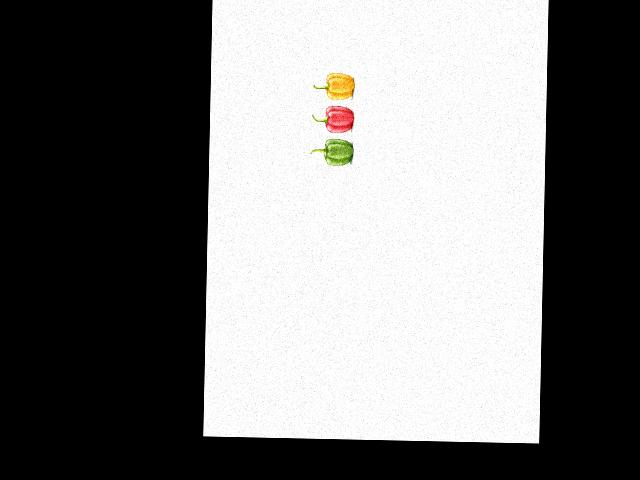bell_pepper: (310, 138, 355, 169)
